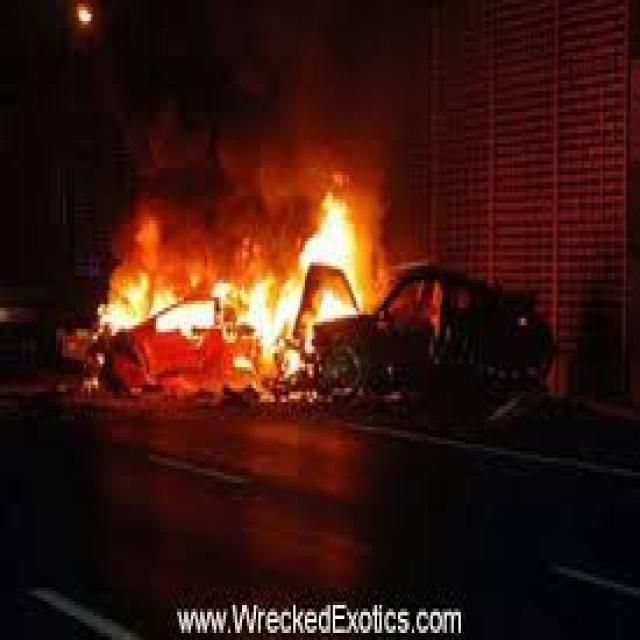Fire: (93, 194, 364, 400)
Smoke: (250, 28, 392, 188)
